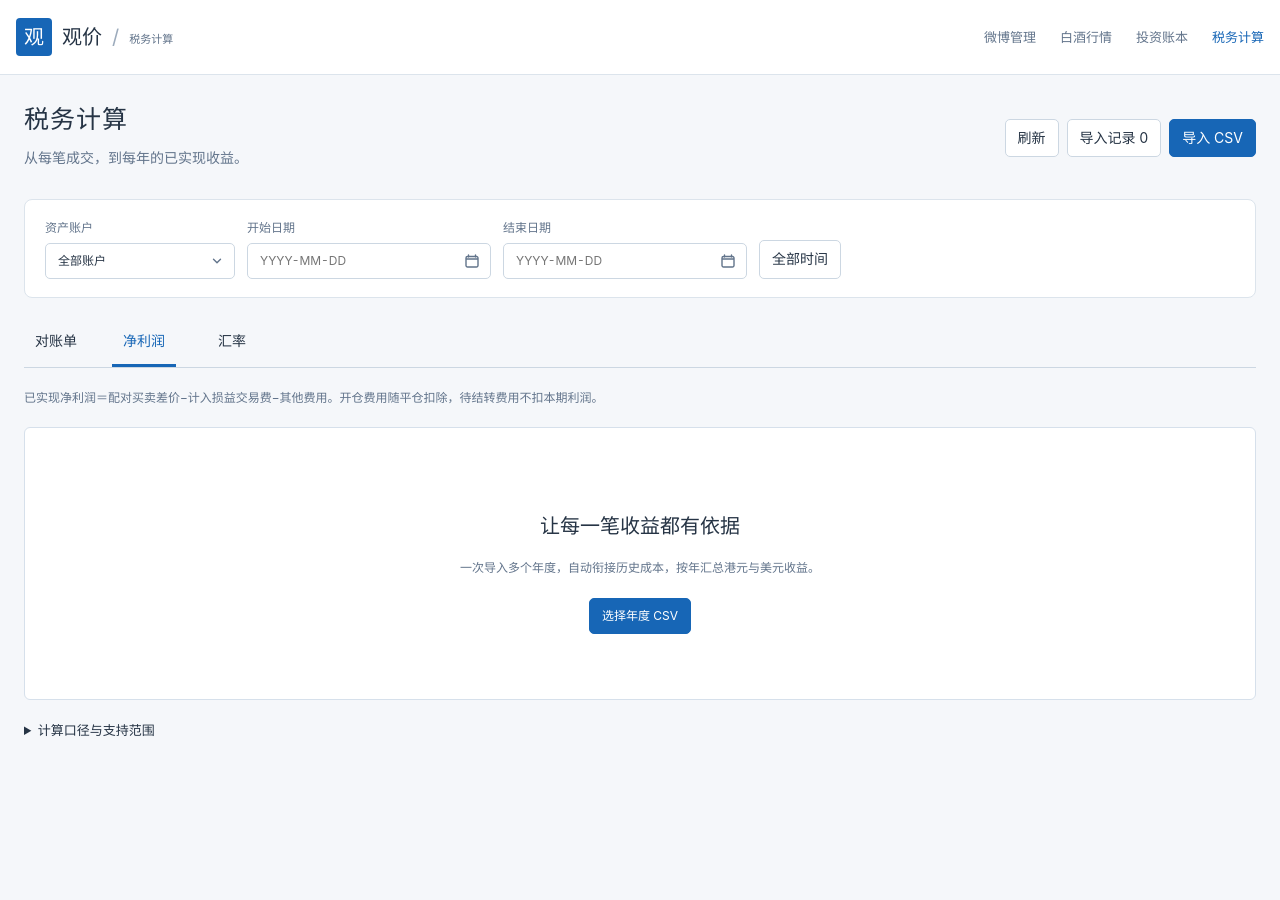
Scenario: shows the yearly rates read-only without editing controls
Click the tab "汇率".
click(232, 342)  # box [200,318,264,367]
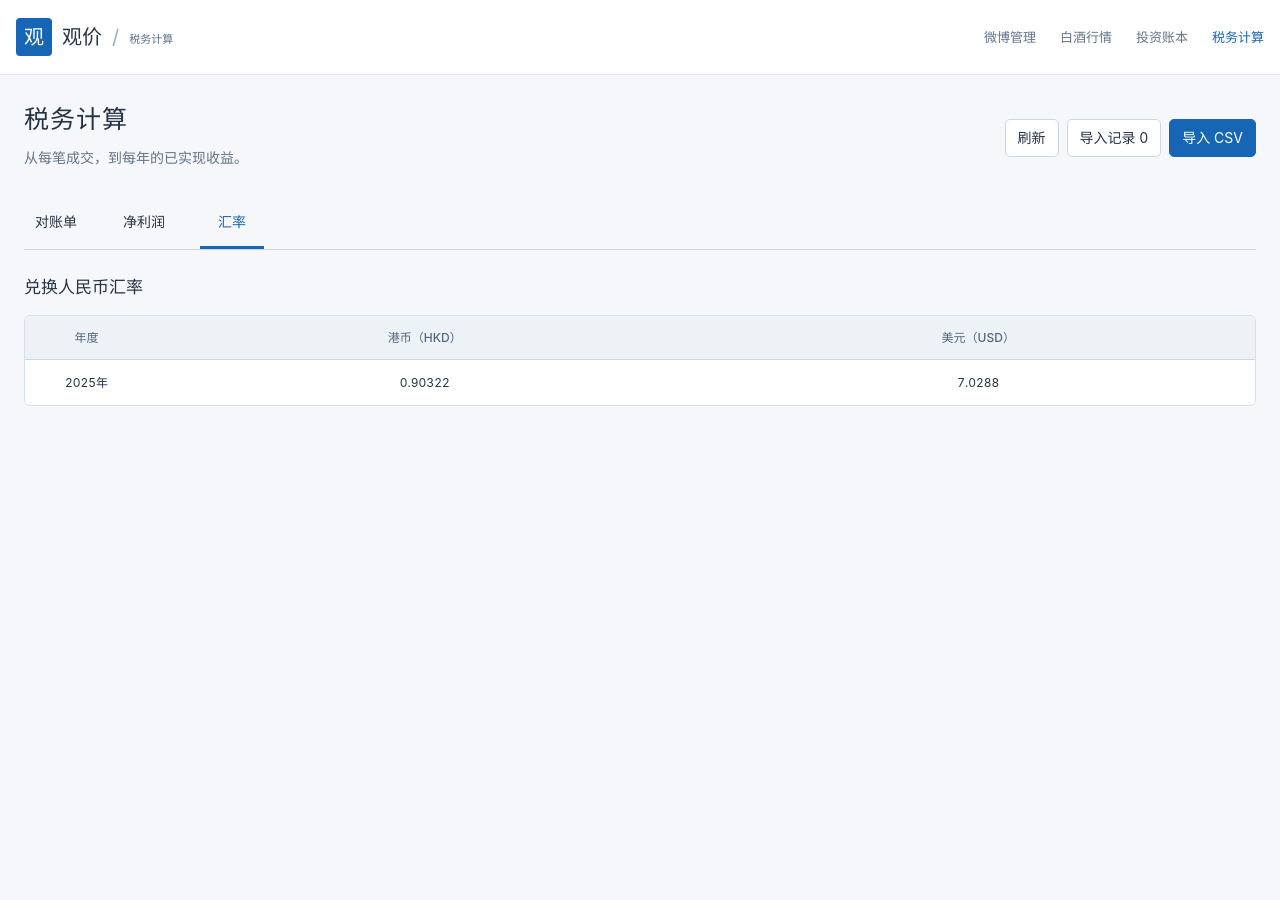
Now the panel with id "tax-view-rates" shows "0.90322", box [400,375,450,390]
Now the panel with id "tax-view-rates" shows "7.0288", box [957,375,999,390]
Now the element showing "年度 港币（HKD） 美元（USD）" is shown, box [25,316,1255,360]
